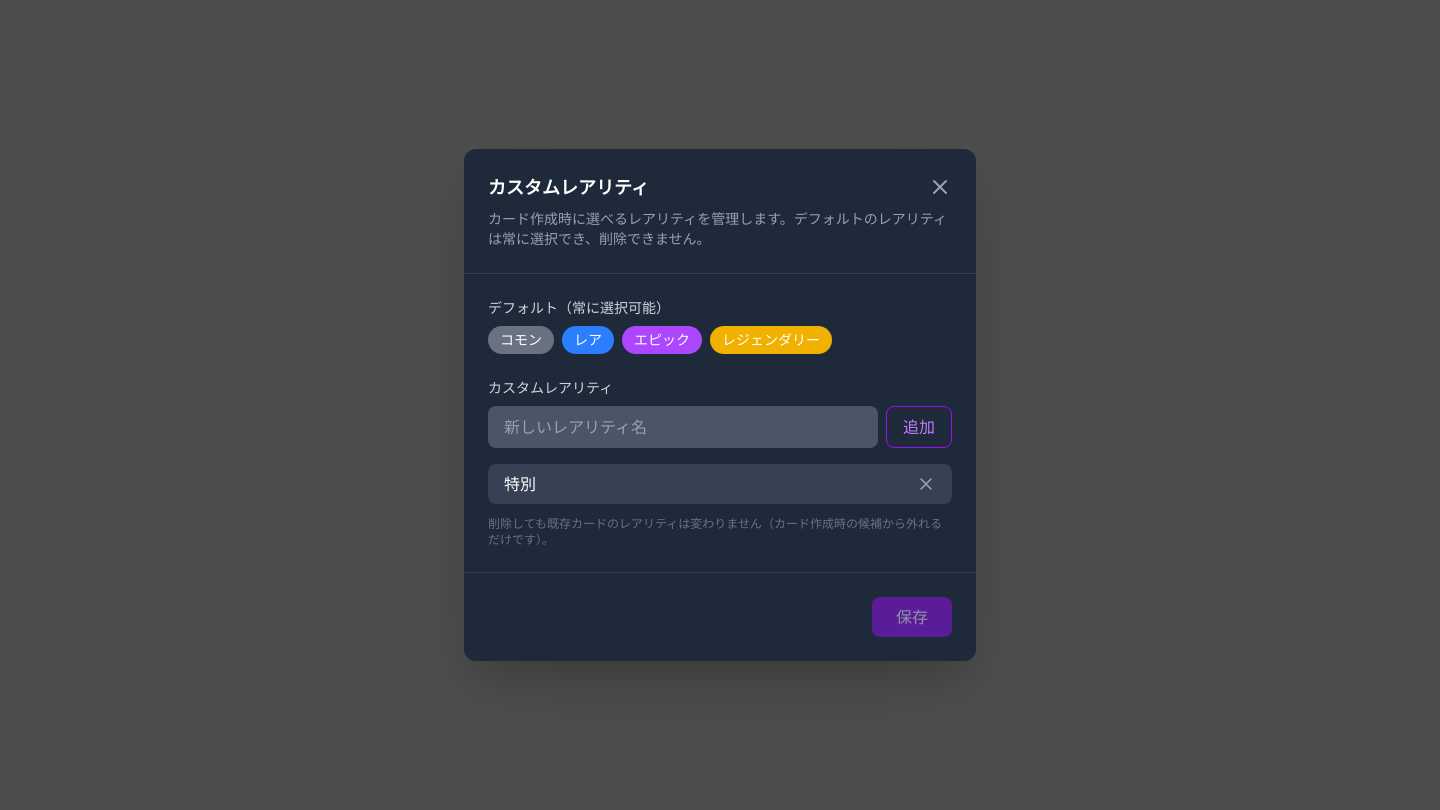
Test case: CustomRarityModal maintenance integration › 事前disableをすり抜けて保存が503(maintenance)で拒否された場合、サーバーの案内文言を表示する
Click the button named "Remove 特別": (926, 484) [916, 474, 936, 494]
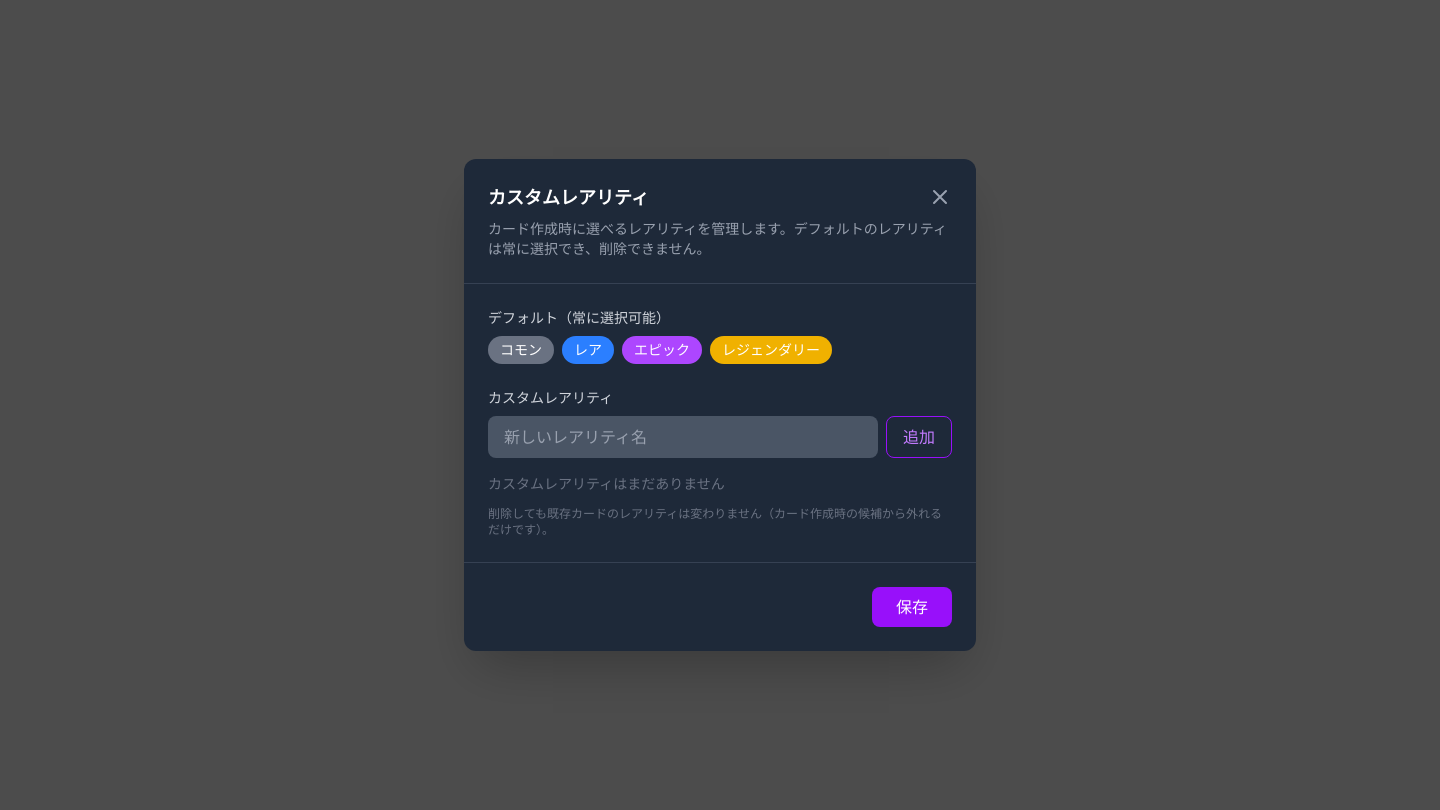
Click the button "保存": (912, 607) [872, 587, 952, 627]
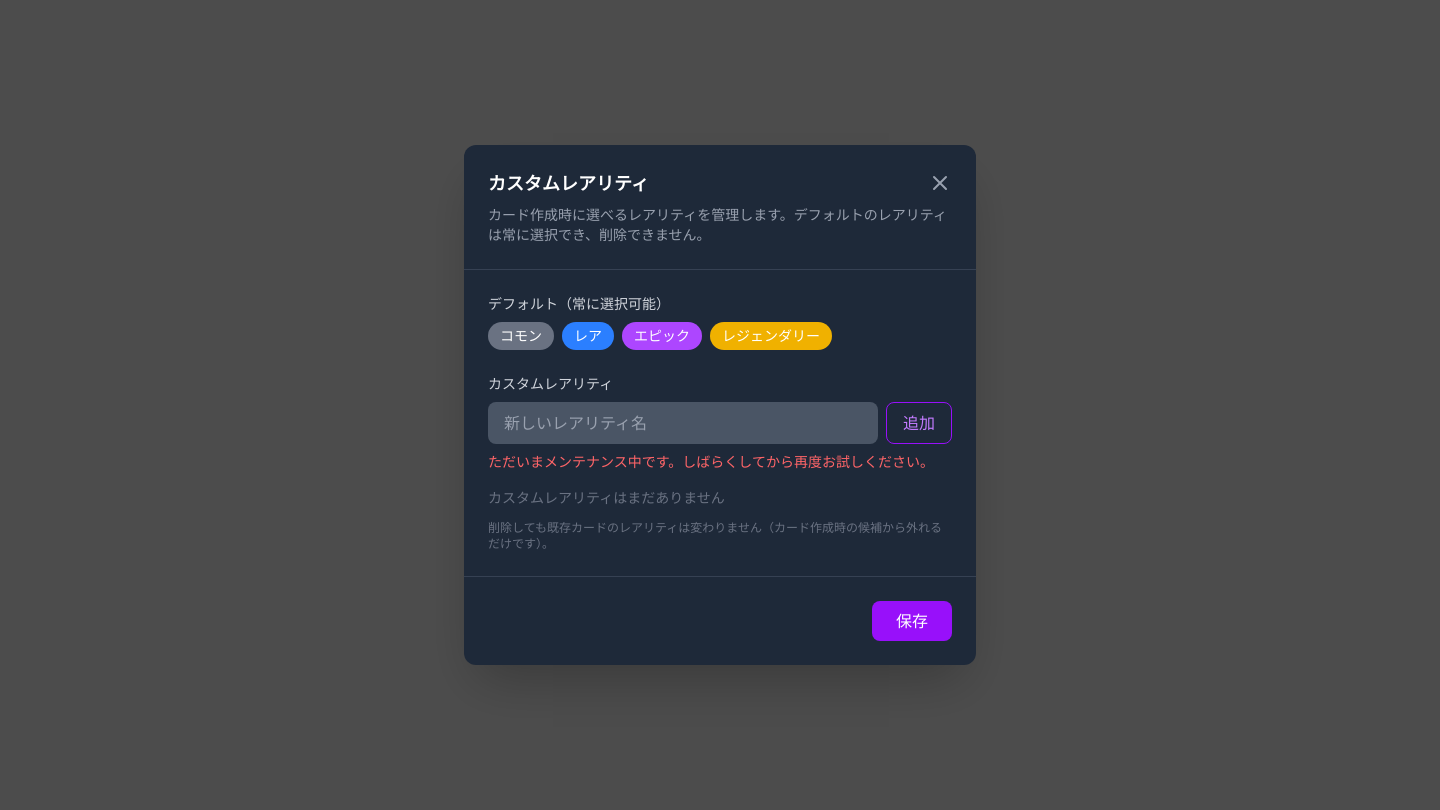
Now the text "ただいまメンテナンス中です。しばらくしてから再度お試しください。" is shown, box [488, 452, 952, 472]
